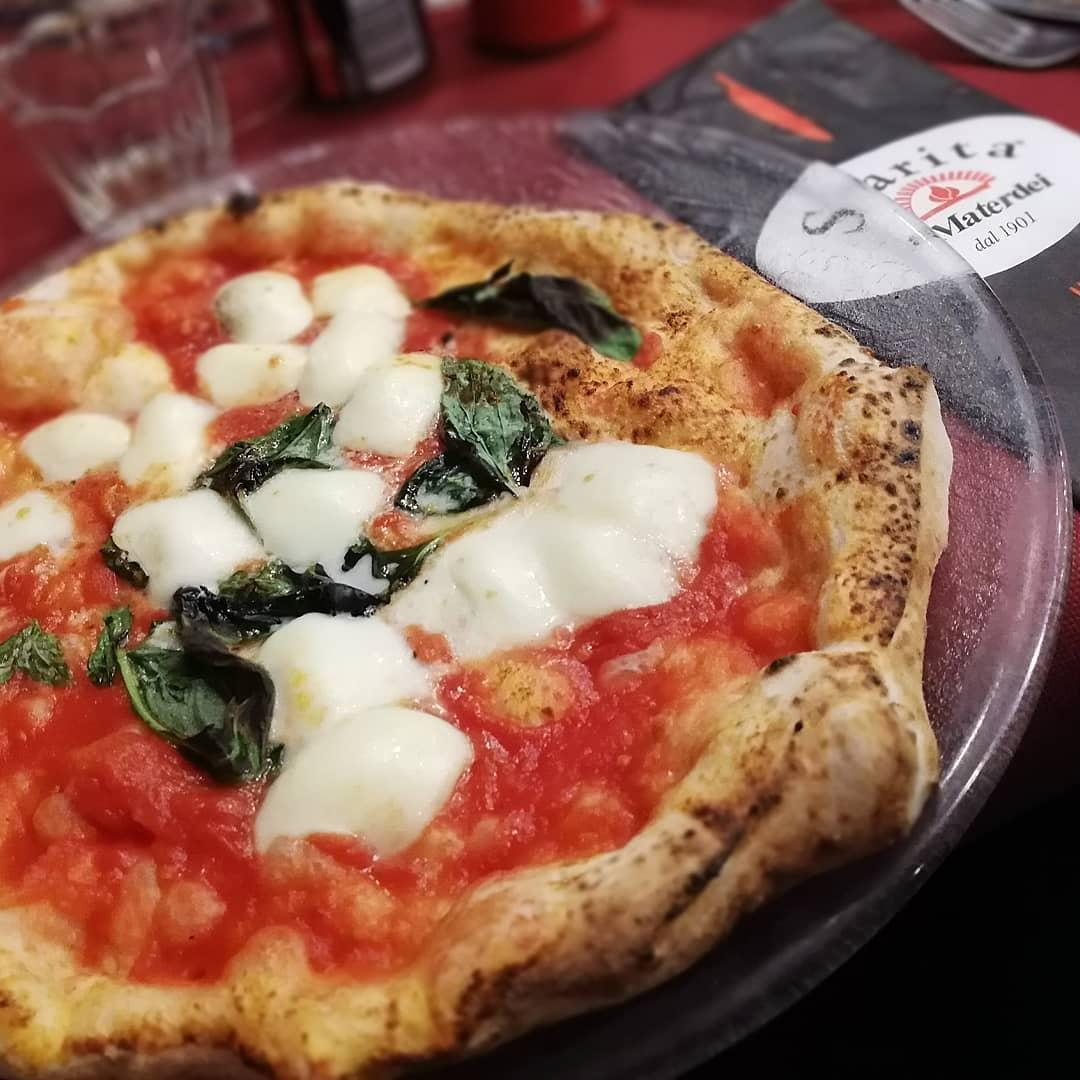Basil: (98, 596, 288, 792), (392, 340, 572, 532), (410, 247, 649, 369), (161, 542, 405, 646), (182, 395, 345, 505), (338, 517, 439, 594), (0, 613, 75, 693), (74, 599, 137, 689), (95, 534, 158, 595)
Cheese: (457, 458, 680, 623), (292, 643, 425, 807), (245, 288, 378, 380), (152, 500, 348, 553), (62, 385, 175, 458)
Pizza: (0, 175, 954, 1080)
